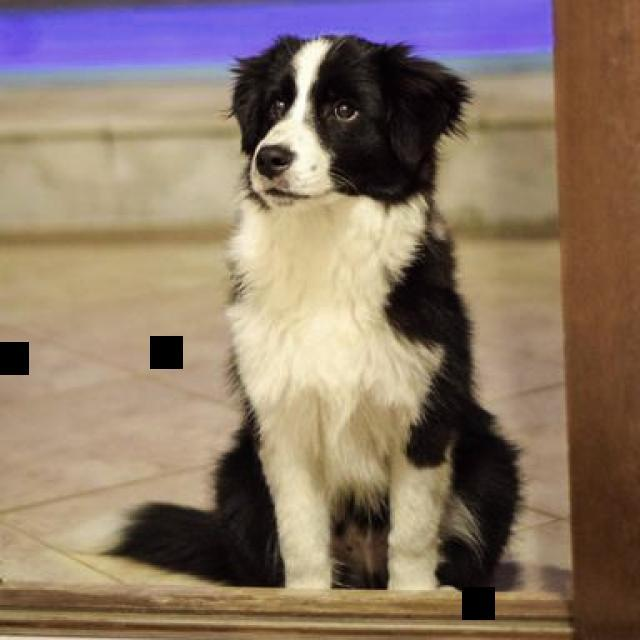puppy-dog: (101, 29, 528, 597)
